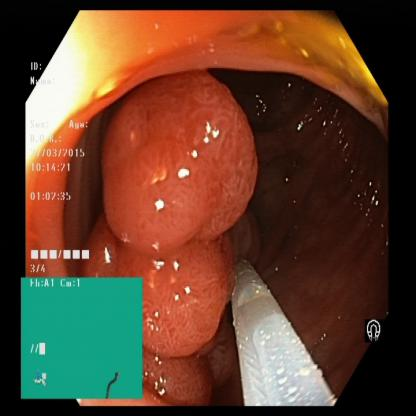Labels: (22, 51, 104, 278), (20, 274, 144, 403)
Polyps: (104, 77, 264, 267), (145, 266, 230, 354)
